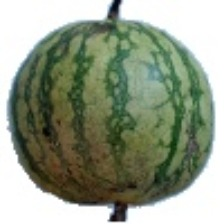watermelon: (33, 63, 207, 206)
